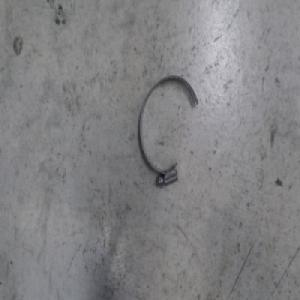AdjustableClamp: (138, 73, 199, 188)
